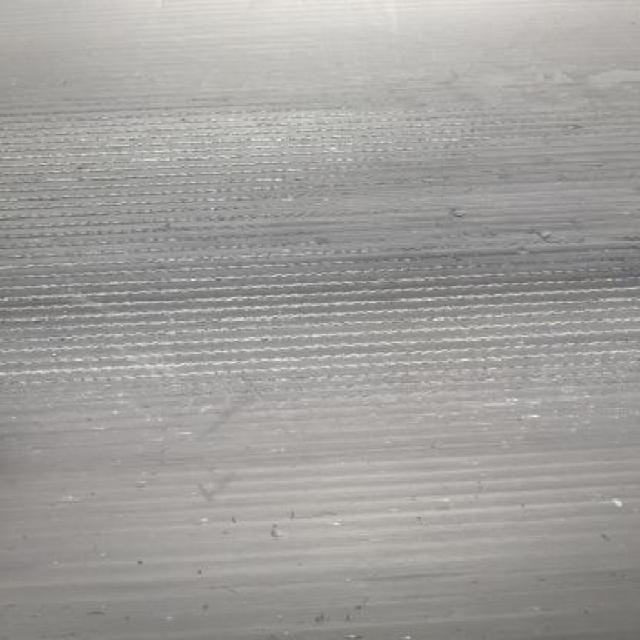Wear: (0, 72, 640, 412)
